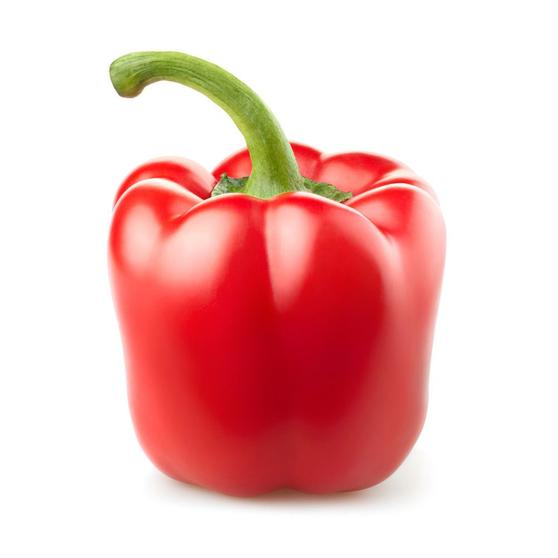pepper: (97, 46, 451, 501)
